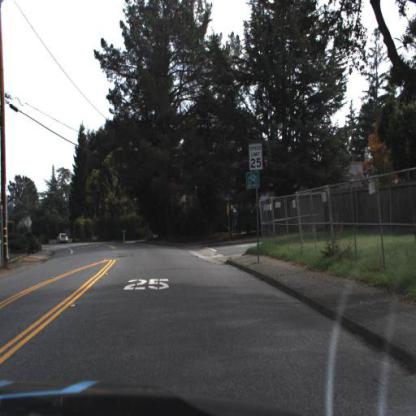car: (56, 231, 72, 249), (57, 231, 70, 246)
